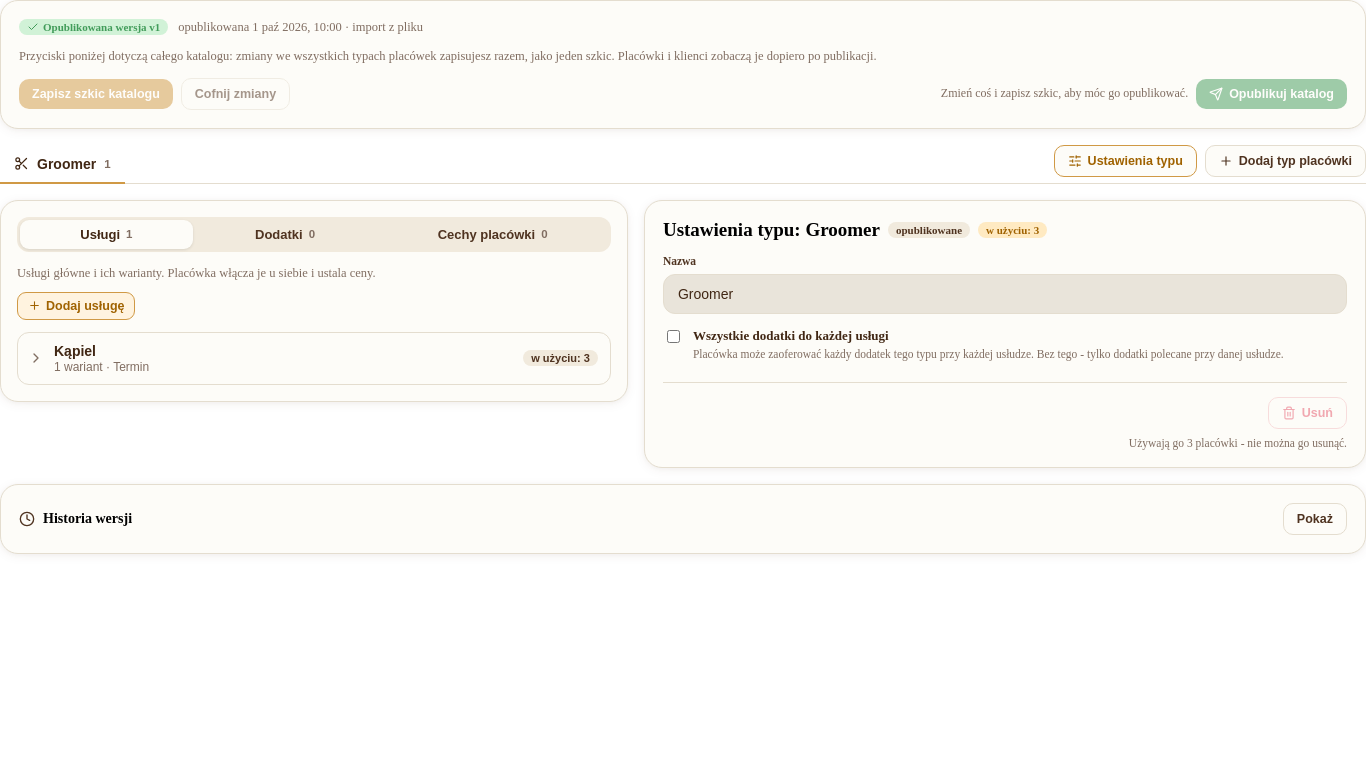
Test: Katalog usług › adds a variant inside its service and saves the draft
Check: the text "Opublikowana wersja v1" is shown, box [19,19,168,35]
Check: the text "1 wariant · Termin" is shown, box [54,360,149,374]
Click the button "Kąpiel 1 wariant · Termin w użyciu: 3".
click(75, 351)  # box [50,333,610,384]
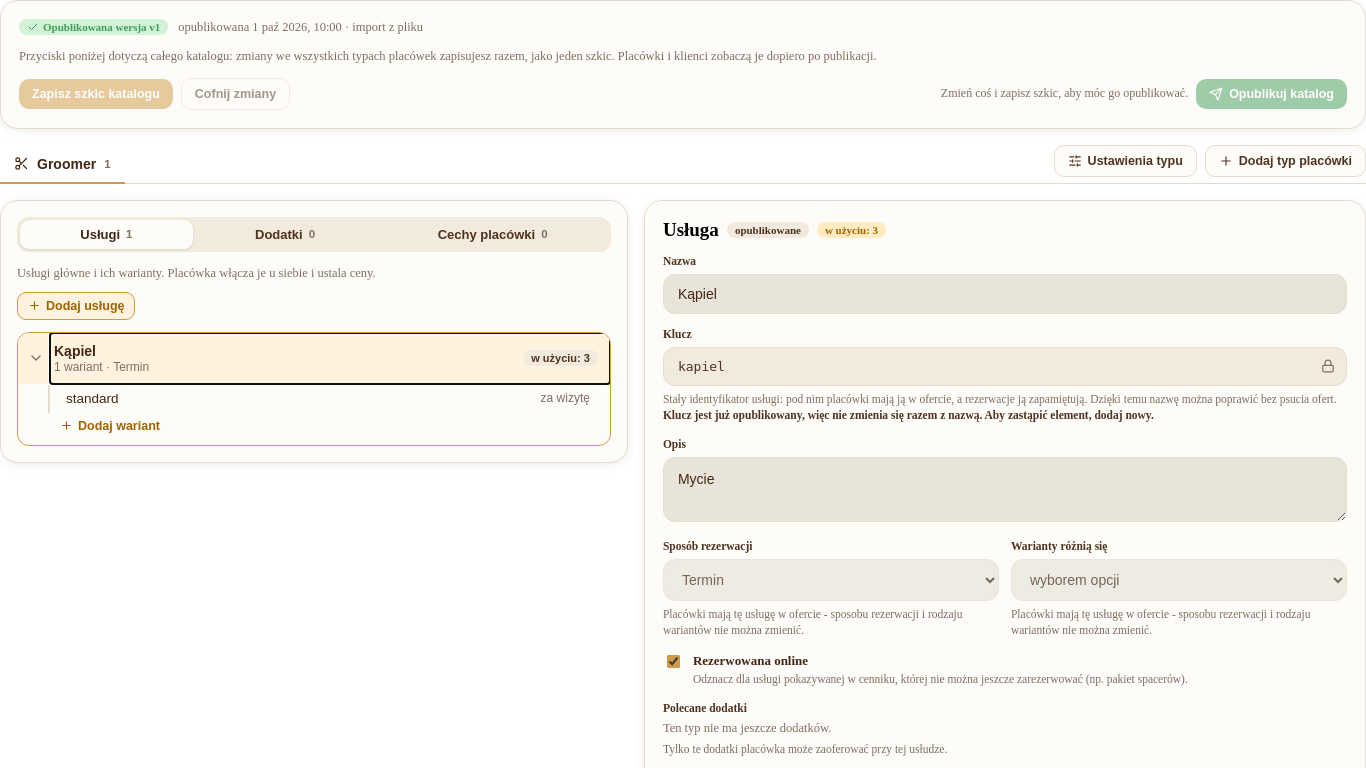
Click the button "Dodaj wariant".
click(110, 426)  # box [52,413,168,439]
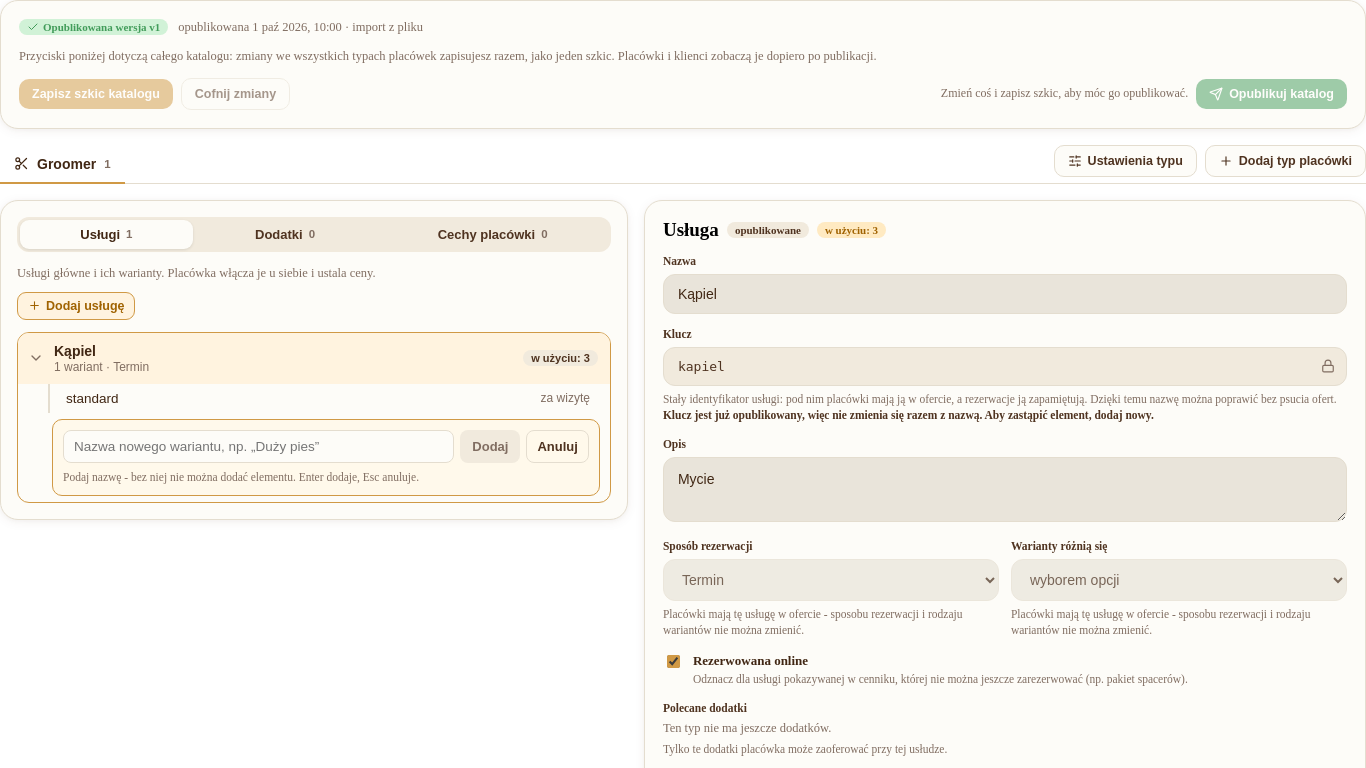
Check: the button "Dodaj" is disabled, box [460,430,520,463]
Type "STANDARD" into the field labelled "Nazwa nowego wariantu, np. „Duży pies”".
click(259, 446); type("STANDARD")  # box [63,430,454,463]
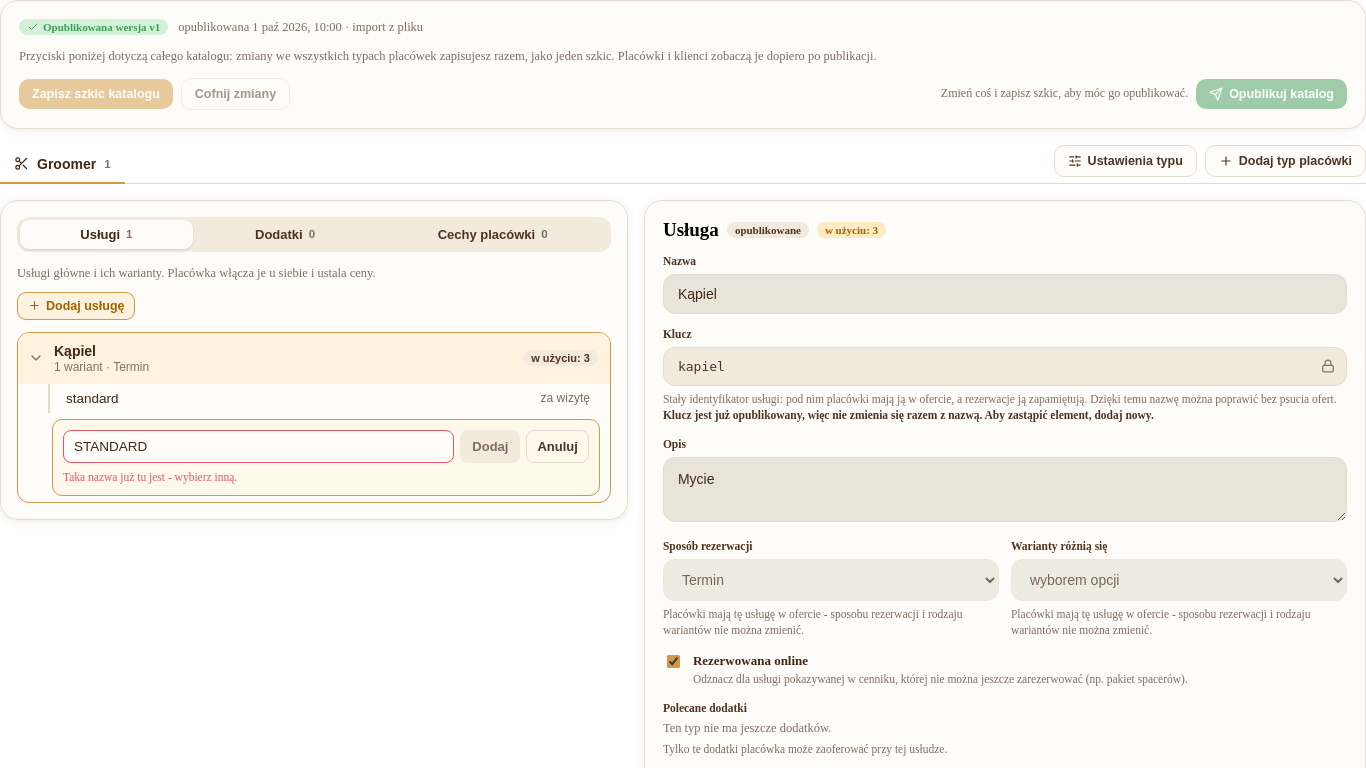
Check: the button "Dodaj" is disabled, box [460,430,520,463]
Check: the text "Taka nazwa już tu jest - wybierz inną." is shown, box [63,471,237,483]
Replace the text in the field named "Nazwa nowego wariantu, np. „Duży pies”" with "Duży pies" at (259, 446), box [63,430,454,463]
Then press Enter
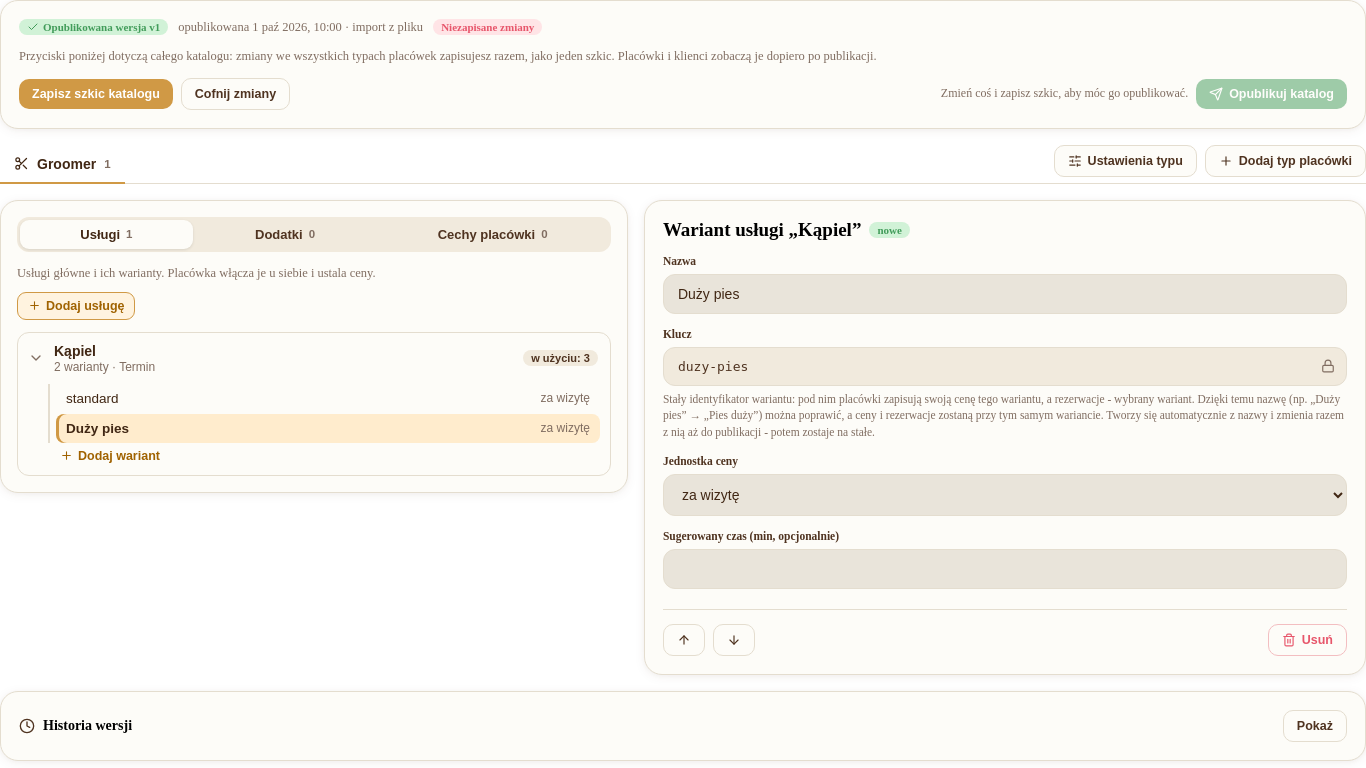
Check: the heading "Wariant usługi „Kąpiel”" is shown, box [663,219,861,241]
Check: the field labelled "Nazwa" holds "Duży pies"
Check: the field labelled "Klucz" holds "duzy-pies", box [663,347,1347,386]
Type " XL" into the field labelled "Nazwa".
click(1005, 294); type(" XL")  # box [663,274,1347,314]
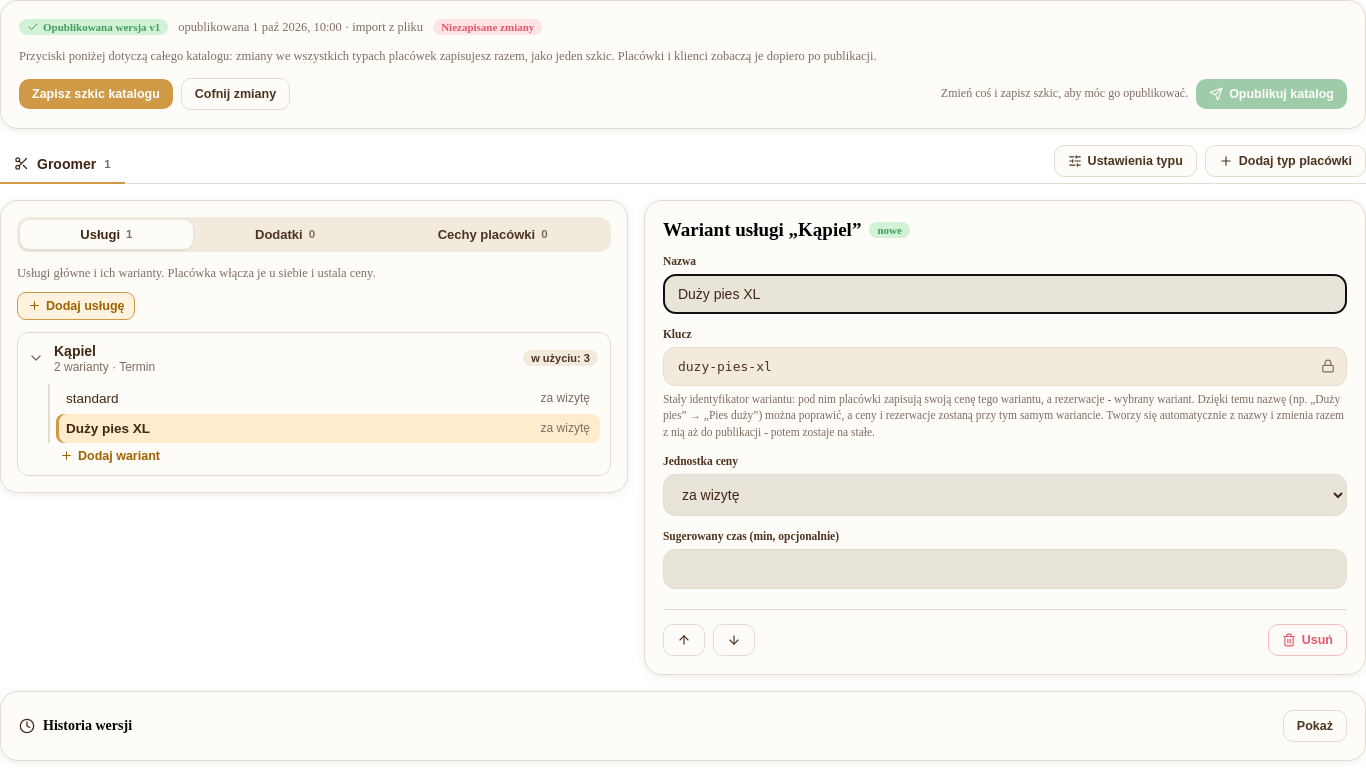
Check: the button "Opublikuj katalog" is disabled, box [1196,79,1347,109]
Check: the text "Niezapisane zmiany" is shown, box [433,19,542,35]
Check: the field labelled "Klucz" holds "duzy-pies-xl", box [663,347,1347,386]
Click the button "Zapisz szkic katalogu".
click(96, 94)  # box [19,79,173,109]
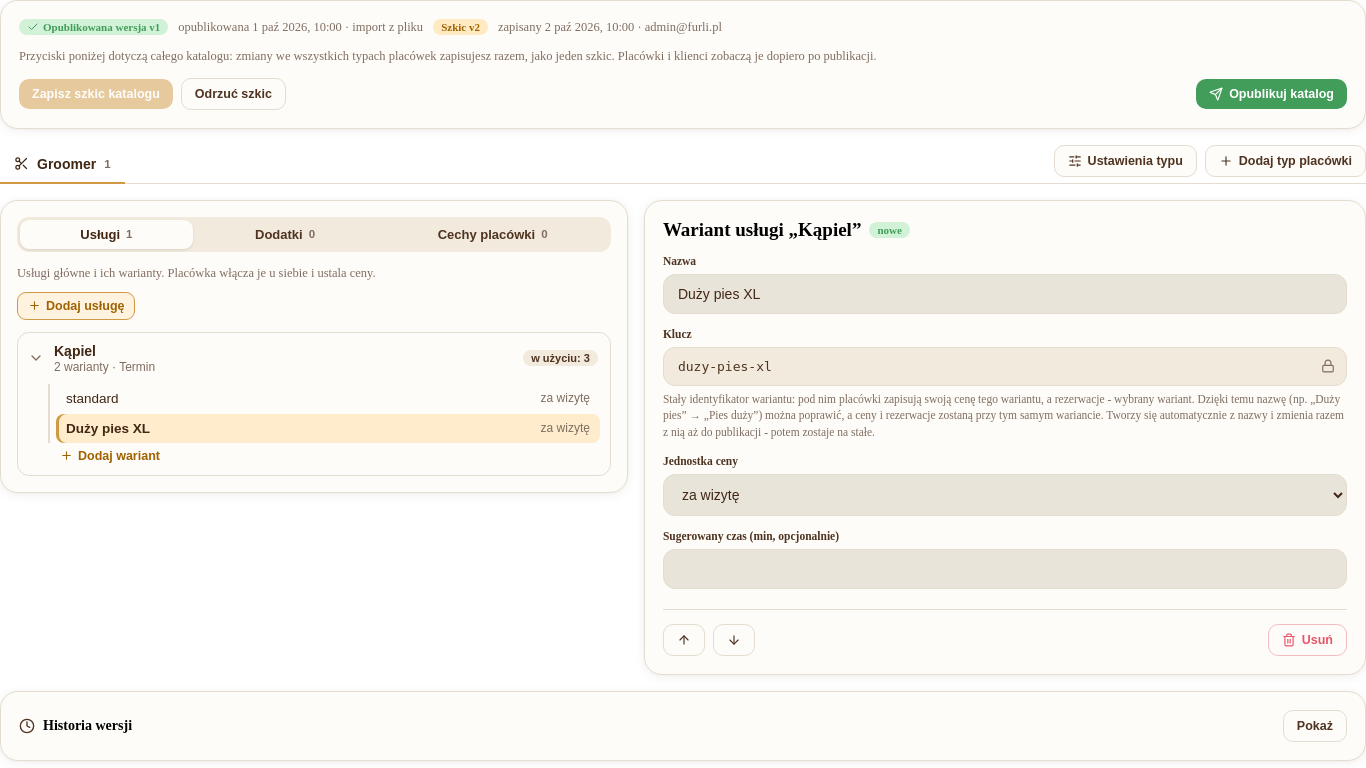
Check: the text "Szkic v2" is shown, box [433,19,488,35]
Check: the button "Opublikuj katalog" is enabled, box [1196,79,1347,109]
